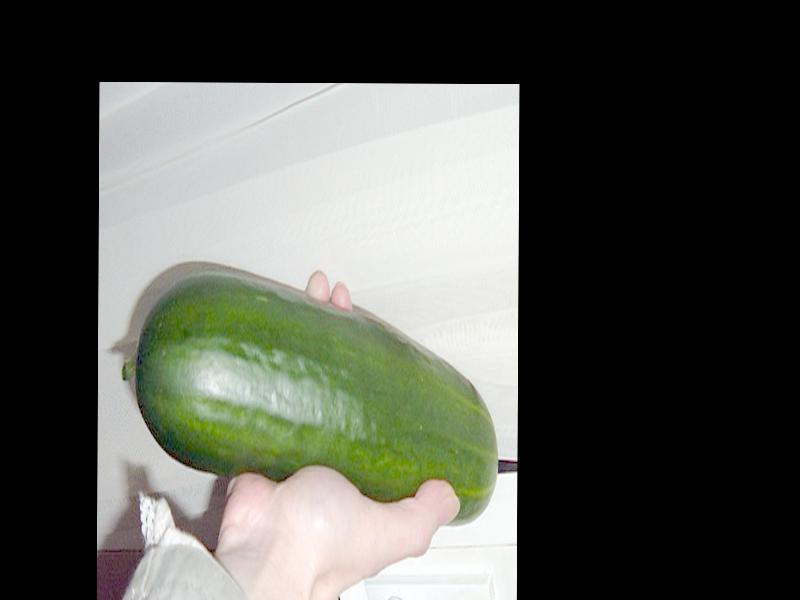Cucumber: (120, 262, 498, 524)
